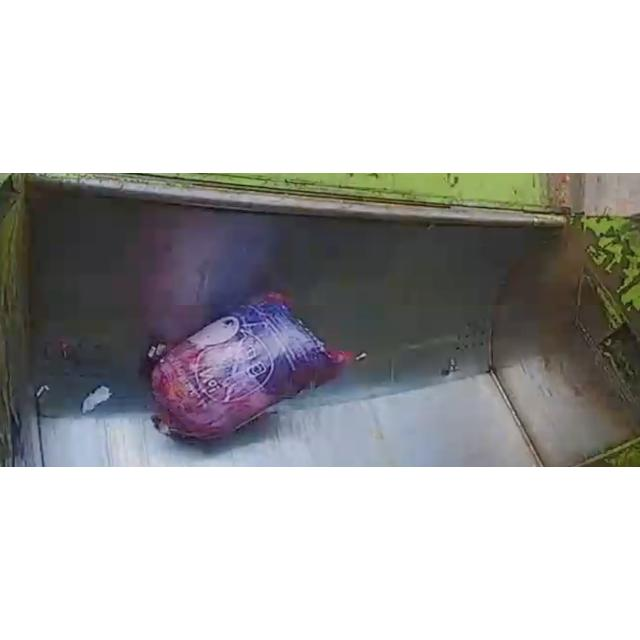other_trashbag: (151, 304, 354, 440)
